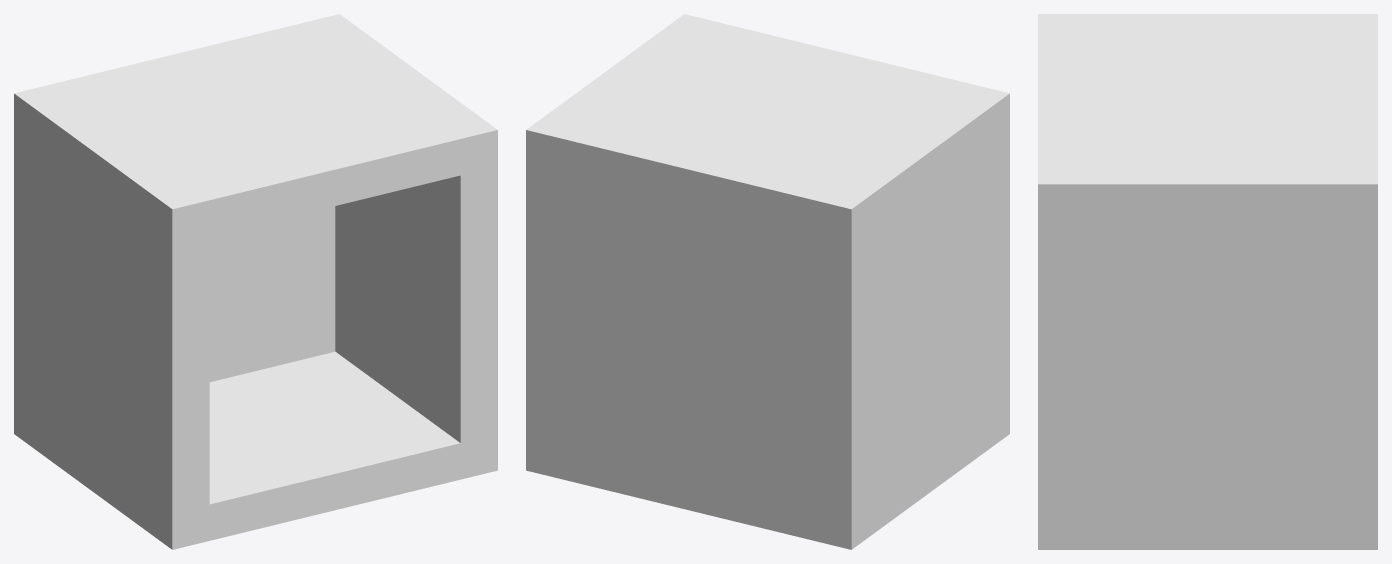
File: lampCover.obj
3 renders of one model, left to right at view 1: azimuth 30°, elevation 25°; view 2: azimuth 150°, elevation 25°; view 3: azimuth 270°, elevation 25°, orthographic. The views are drawn at different scales.
Visible parts, largest first — view 1: 立方体; view 2: 立方体; view 3: 立方体.
Boxes of the visible parts, x1,y1,x2,y2 form: 立方体: (14, 14, 497, 549); 立方体: (526, 14, 1009, 549); 立方体: (1038, 14, 1377, 549).
Size of the model in its own units: 1 by 1 by 0.8429.
1 material, 1 textured.
